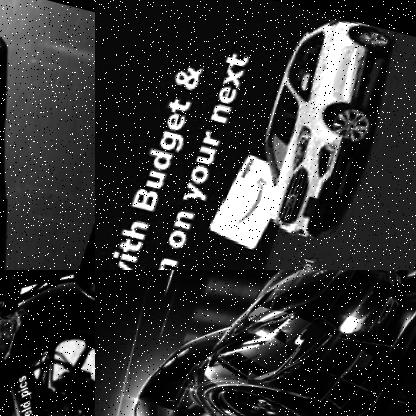bike: (0, 270, 95, 416)
car: (97, 270, 416, 416), (234, 9, 401, 254)
